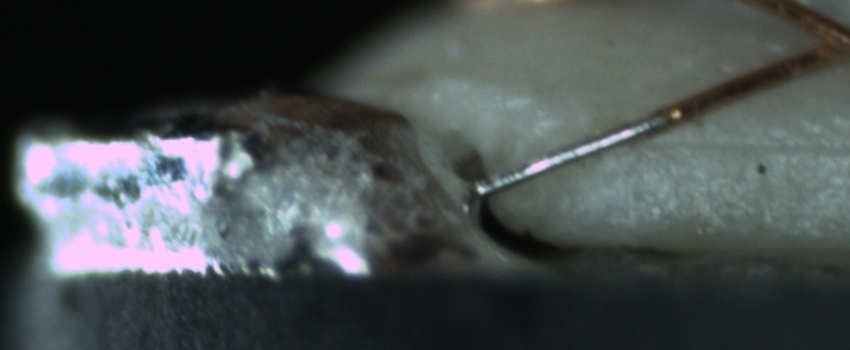CL: (793, 8, 850, 67)
DL: (630, 114, 850, 175)
TS: (471, 108, 664, 195)
